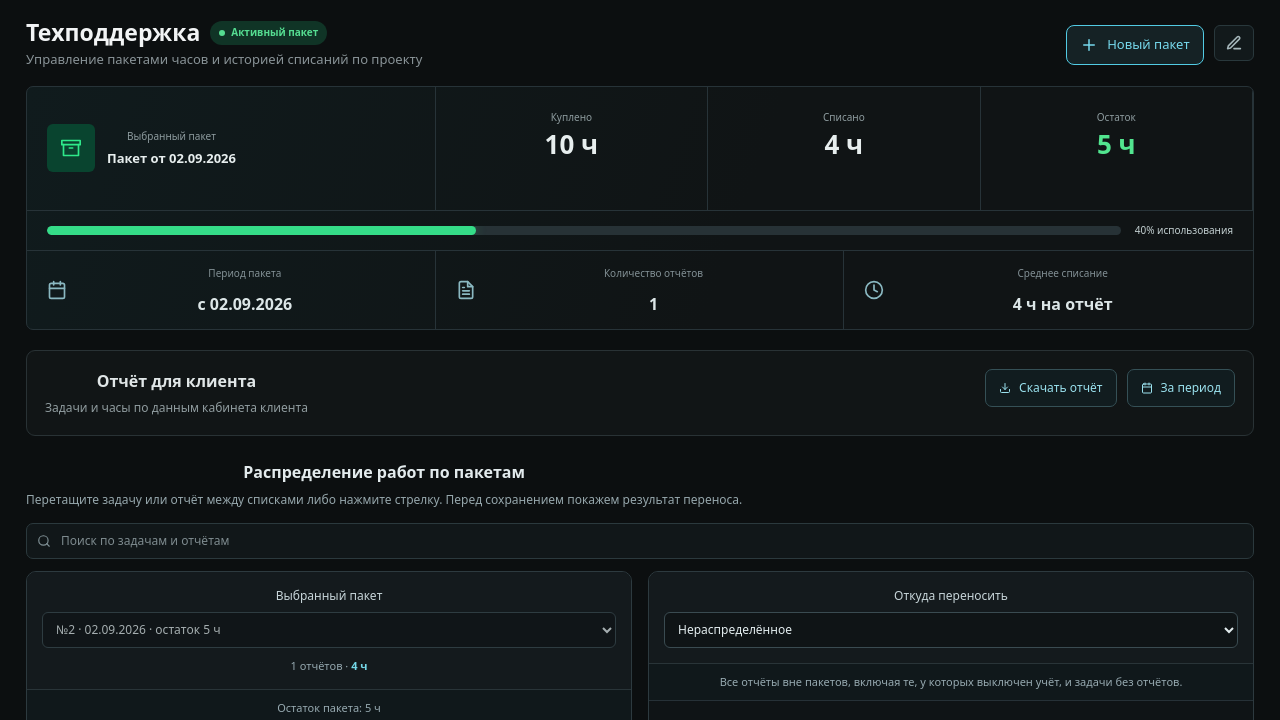
Test case: selected support package PDF › downloads the current client PDF once, blocks duplicate clicks, and releases its URL
Click the button "Скачать отчёт" at (1051, 388), box [985, 369, 1116, 407]
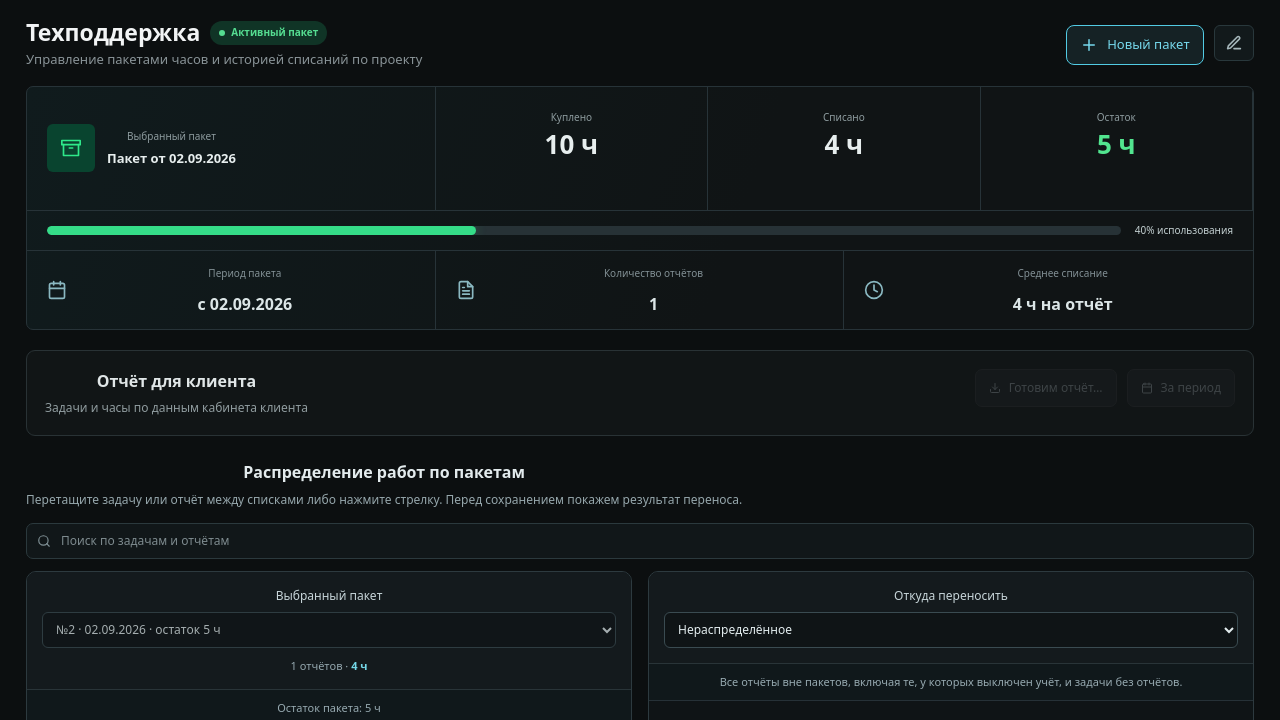
Now the button "Готовим отчёт…" is disabled
Click the button "Готовим отчёт…" at (1046, 388), box [975, 369, 1116, 407]
Wait 1000 ms
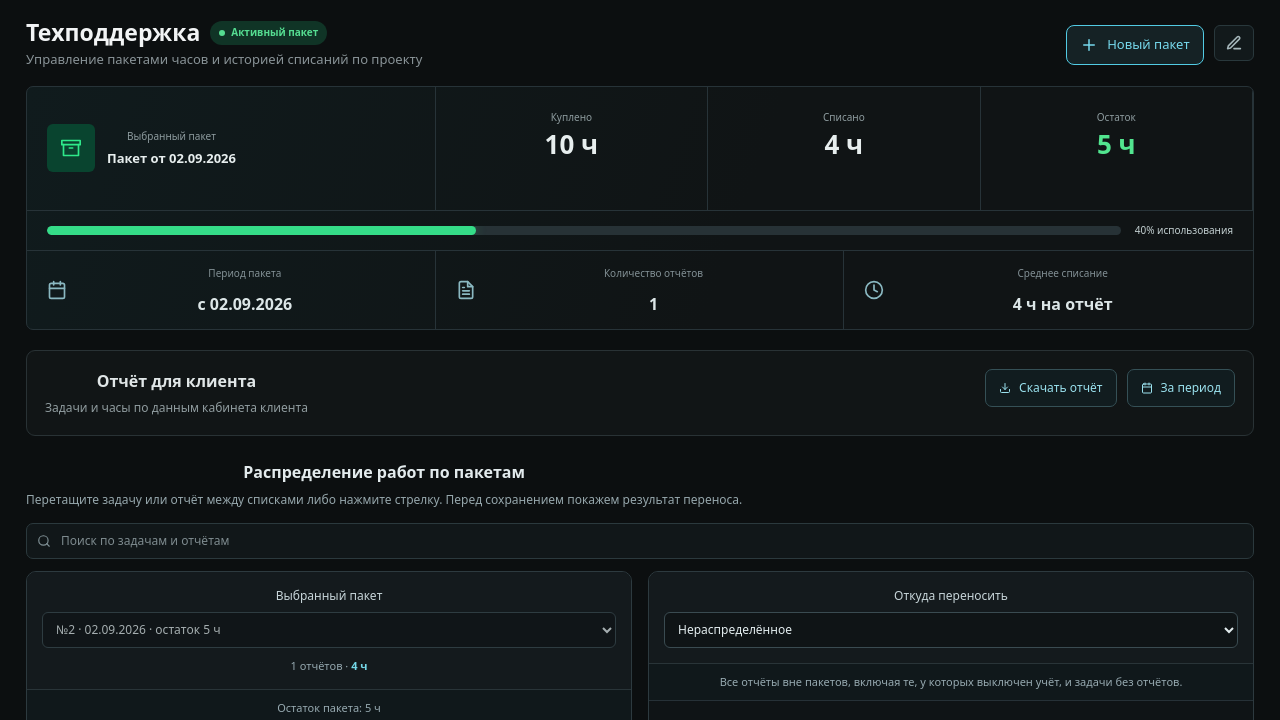
Now the button "Скачать отчёт" is enabled, box [985, 369, 1116, 407]
